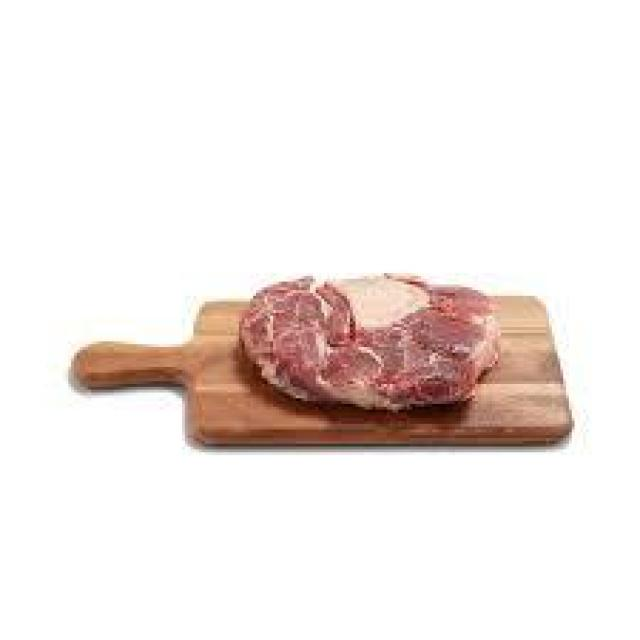Beef: (266, 238, 494, 416)
